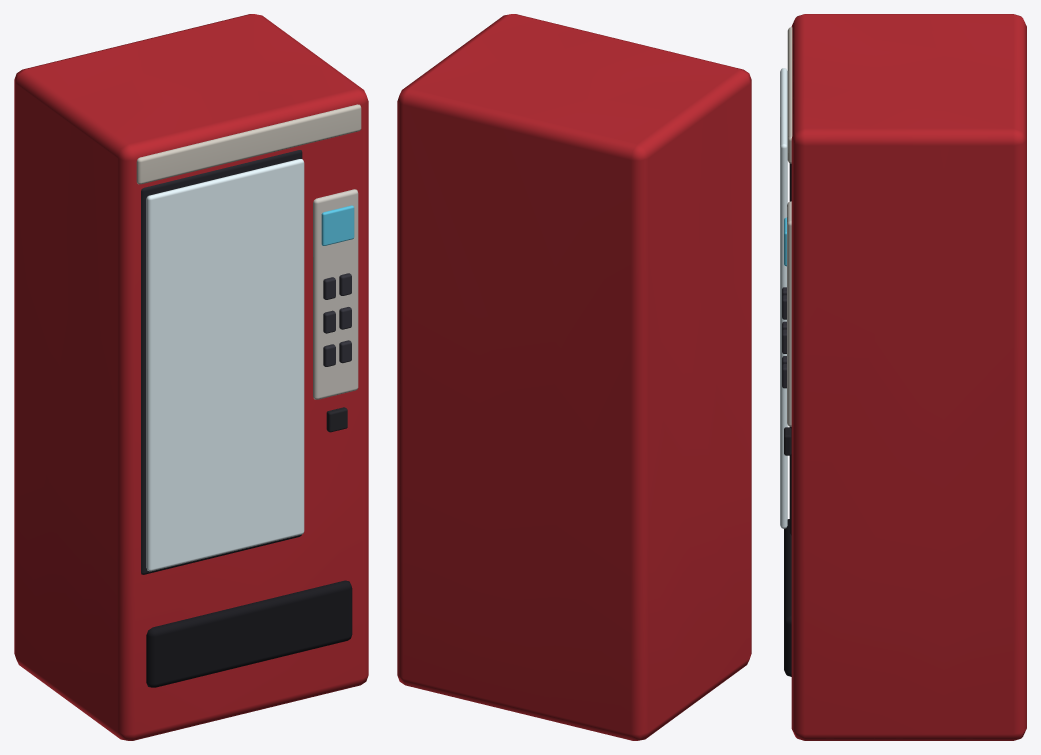
The model's file is furn_snack_machine.glb.
3 views of the same model, side by side, from view 1: azimuth 30°, elevation 25°; view 2: azimuth 150°, elevation 25°; view 3: azimuth 270°, elevation 25° (orthographic). The views are drawn at different scales.
Parts seen in each view (by area): view 1: furn_snack_machine_main, furn_snack_machine_clear, furn_snack_machine_gloss; view 2: furn_snack_machine_main; view 3: furn_snack_machine_main, furn_snack_machine_clear.
Boxes of the visible parts, bbox=[...] form: furn_snack_machine_main: bbox=[14, 14, 368, 740]; furn_snack_machine_clear: bbox=[146, 159, 304, 571]; furn_snack_machine_gloss: bbox=[321, 205, 354, 245]; furn_snack_machine_main: bbox=[397, 14, 751, 740]; furn_snack_machine_main: bbox=[782, 14, 1026, 740]; furn_snack_machine_clear: bbox=[780, 68, 787, 528].
Size of the model in its own units: 0.78 by 1.78 by 0.65.
